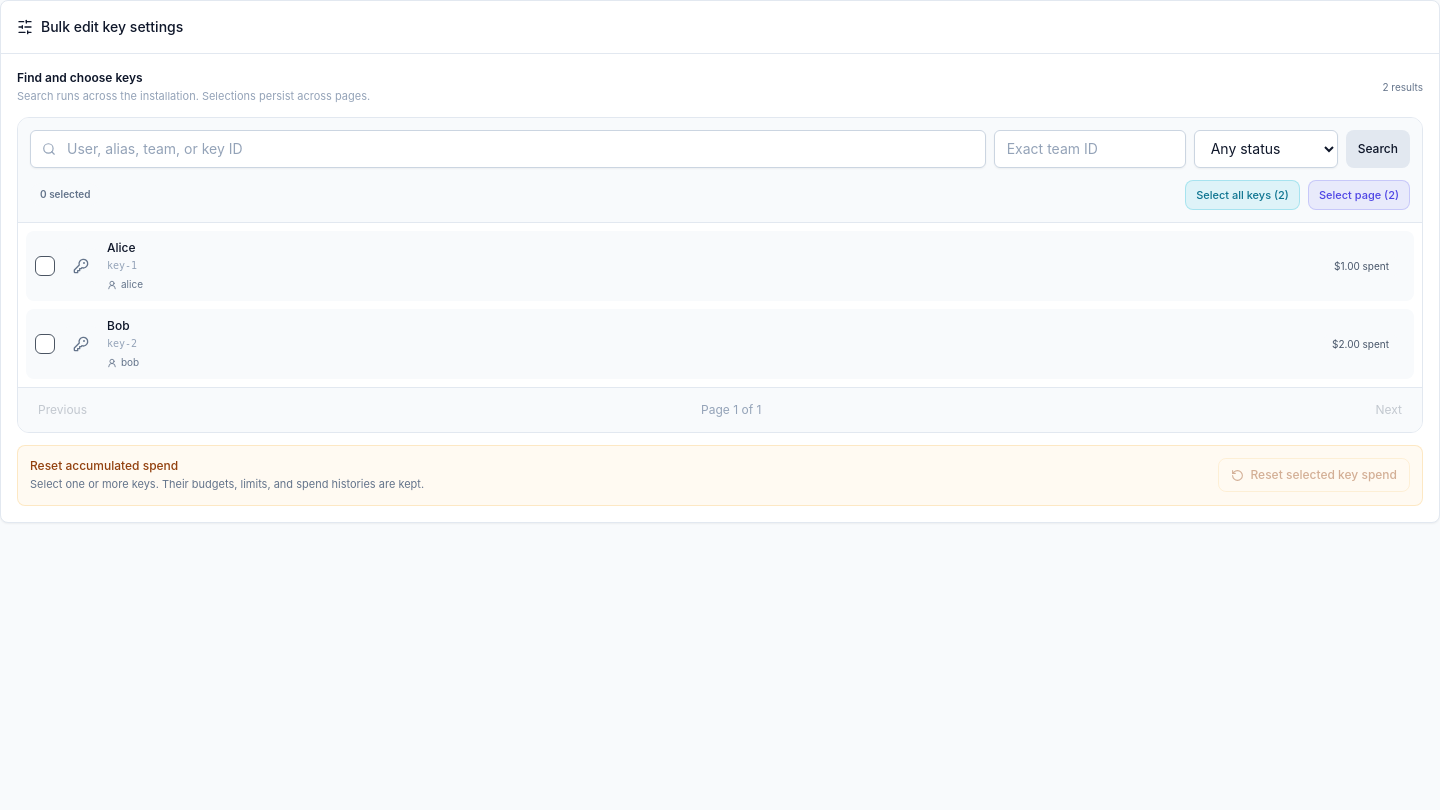
it: BulkKeyEditor › selects every result, not only the visible page
Click the button "Select all keys (2)" at (1242, 195), box x1=1185 y1=180 x2=1300 y2=210
(page scrolled)
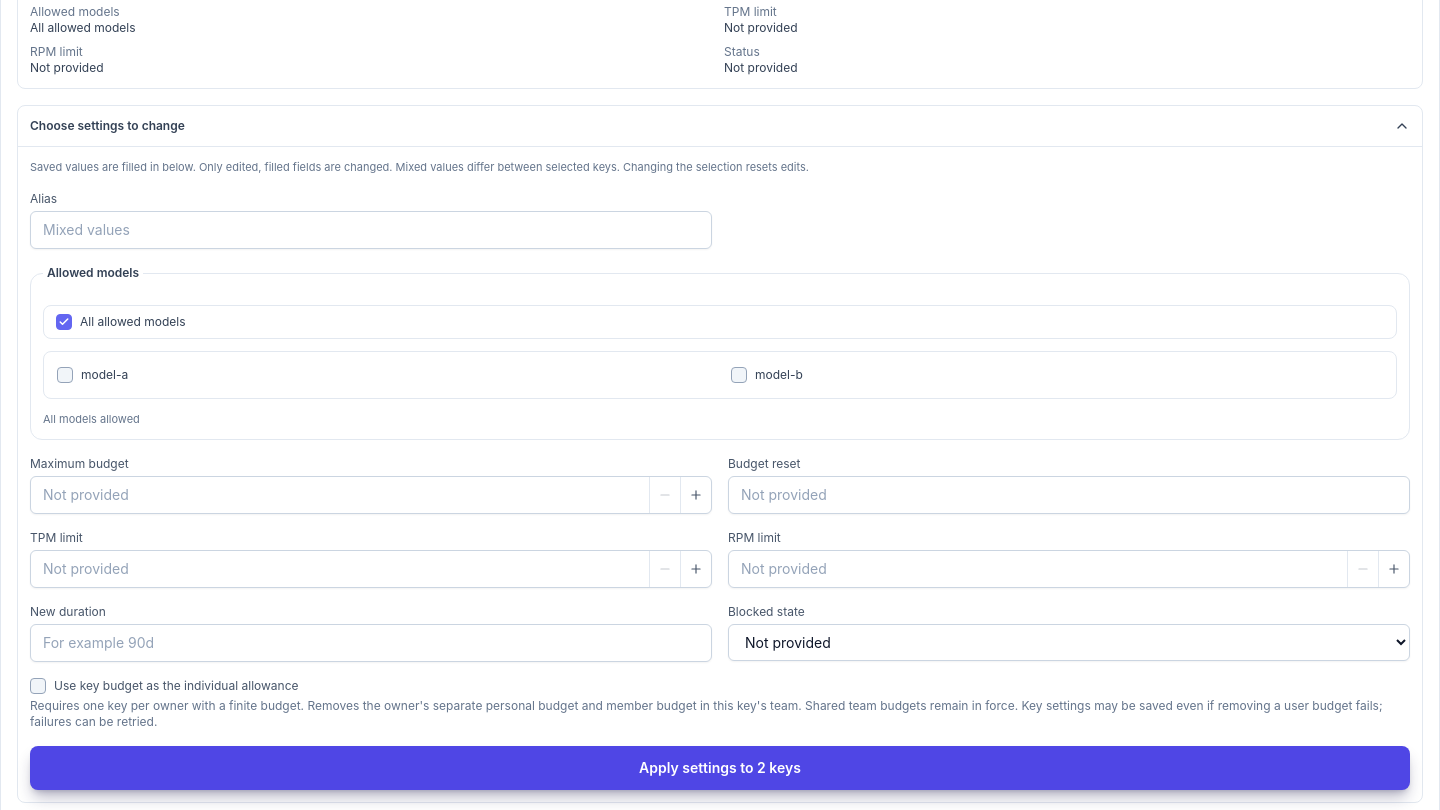
Expected: the button "Apply settings to 2 keys" is shown, x1=30 y1=746 x2=1410 y2=790
